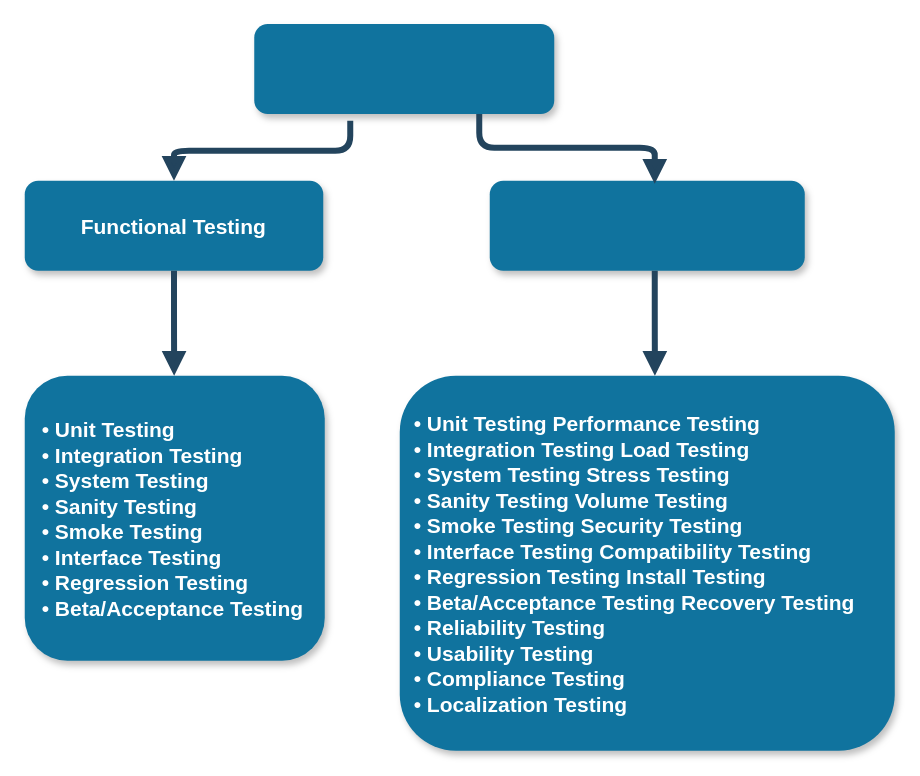
This 920x776 diagram has some shape labels left out. The centre of each missing label's shape, as x and y in pixels:
"Non Functional Testing" belongs at (648,227).
"Types of Testing" belongs at (405,70).
